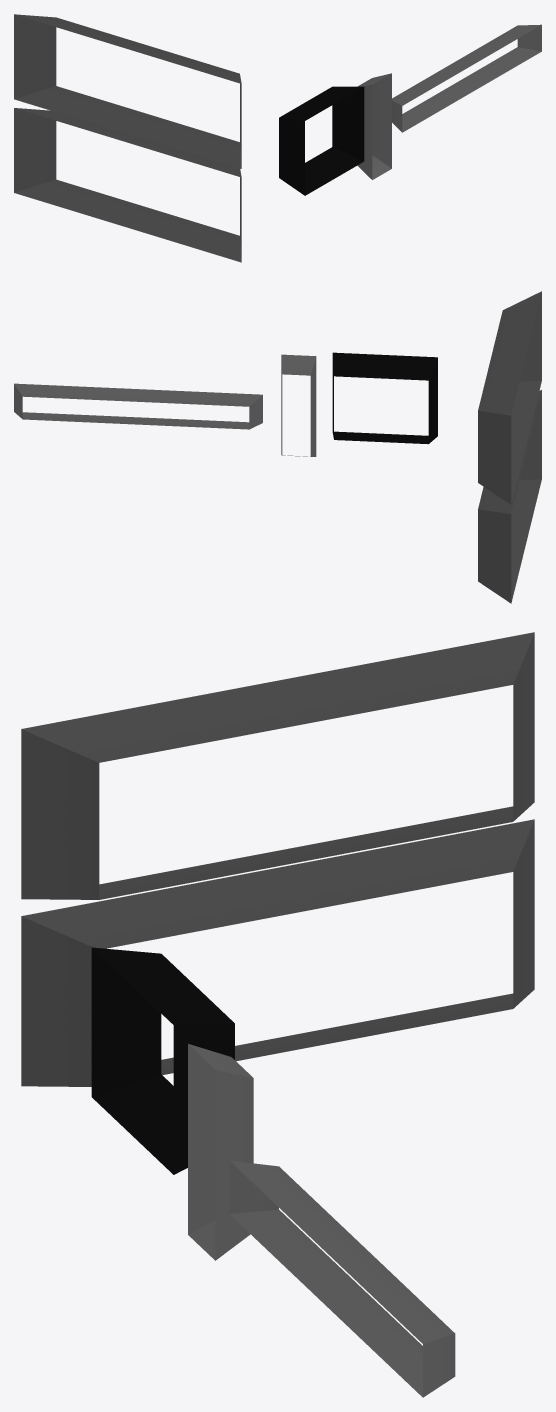
Rendered from Resplandor_ventanas_Mini3D.glb.
3 views of the same model, one above another, from view 1: azimuth 30°, elevation 25°; view 2: azimuth 150°, elevation 25°; view 3: azimuth 270°, elevation 25° (orthographic). The views are drawn at different scales.
Parts seen in each view (by area): view 1: Mini.001; view 2: Mini.001; view 3: Mini.001.
Boxes of the visible parts, left/top/right/bottom form: Mini.001: left=14, top=14, right=541, bottom=262; Mini.001: left=14, top=291, right=541, bottom=603; Mini.001: left=21, top=632, right=534, bottom=1397.
Bounding box in the file's own units: 2.37 × 0.8075 × 1.05.
Materials: 1 (1 with a texture image).
